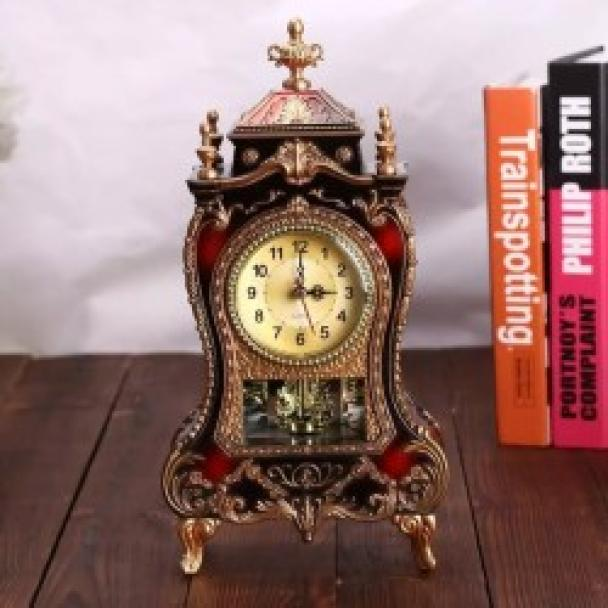Jam: (216, 205, 388, 372)
